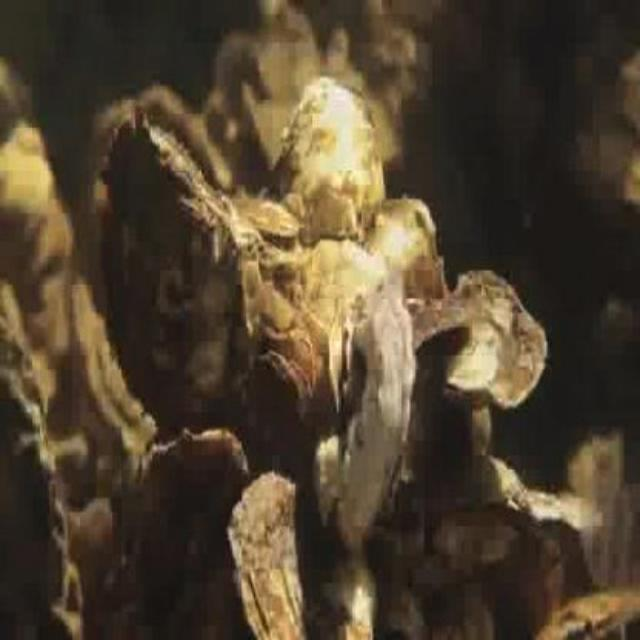Oyster-Closed: (106, 114, 264, 407), (0, 330, 85, 638), (90, 84, 232, 237), (336, 282, 414, 552), (129, 428, 251, 579), (275, 81, 384, 242), (227, 473, 333, 638), (443, 273, 546, 411), (303, 238, 386, 348), (367, 197, 450, 302), (252, 13, 323, 110), (433, 508, 521, 572), (536, 584, 638, 638), (251, 352, 311, 437), (432, 452, 524, 506), (212, 34, 260, 117), (524, 490, 593, 540), (364, 94, 405, 172), (417, 300, 474, 356), (231, 200, 298, 237)
Oyster-Open: (327, 302, 363, 415)
